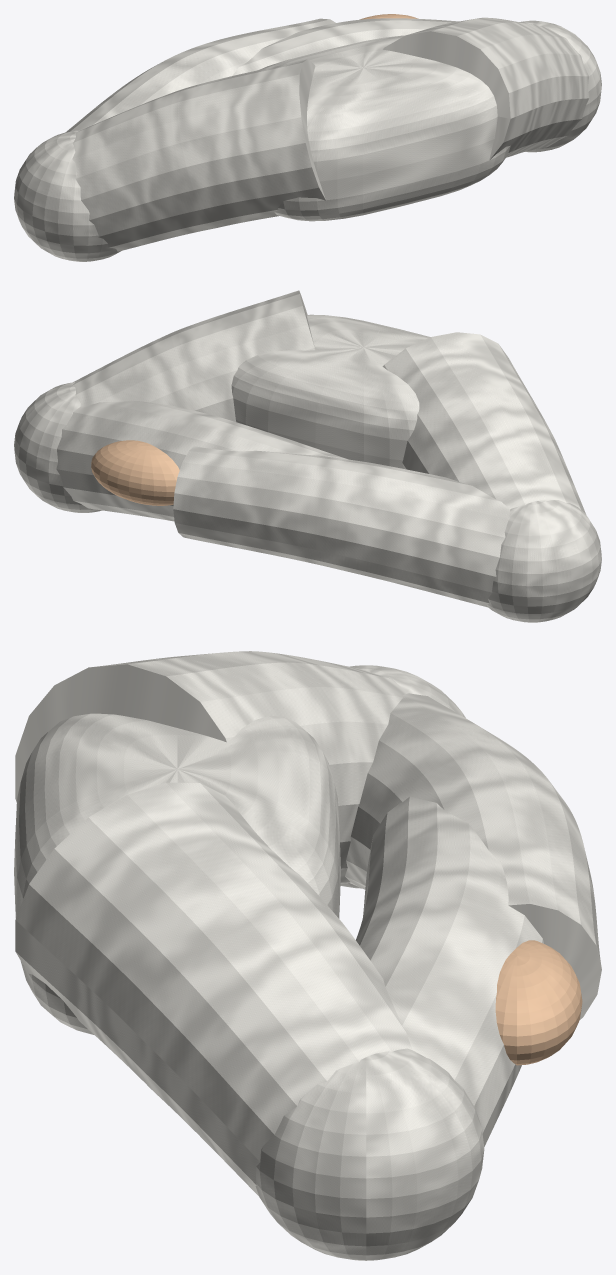
Rendered from SenseiLegs.obj.
3 views of the same model, one above another, from view 1: azimuth 30°, elevation 25°; view 2: azimuth 150°, elevation 25°; view 3: azimuth 270°, elevation 25° (orthographic). The views are drawn at different scales.
Visible parts, largest first — view 1: Legs; view 2: Legs, Feet; view 3: Legs, Feet.
Boxes of the visible parts, left/top/right/bottom form: Legs: left=14, top=17, right=601, bottom=261; Legs: left=14, top=290, right=601, bottom=622; Feet: left=91, top=440, right=179, bottom=505; Legs: left=14, top=651, right=601, bottom=1260; Feet: left=495, top=940, right=582, bottom=1065.
Bounding box in the file's own units: 4.44 × 1.46 × 2.34.
Materials: 2 (2 with a texture image).
